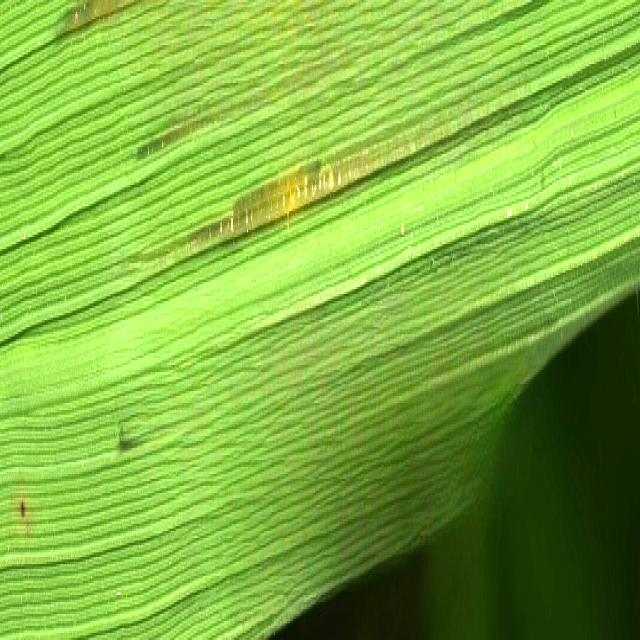BLS: (188, 114, 490, 251), (137, 55, 354, 157), (53, 0, 150, 45)
